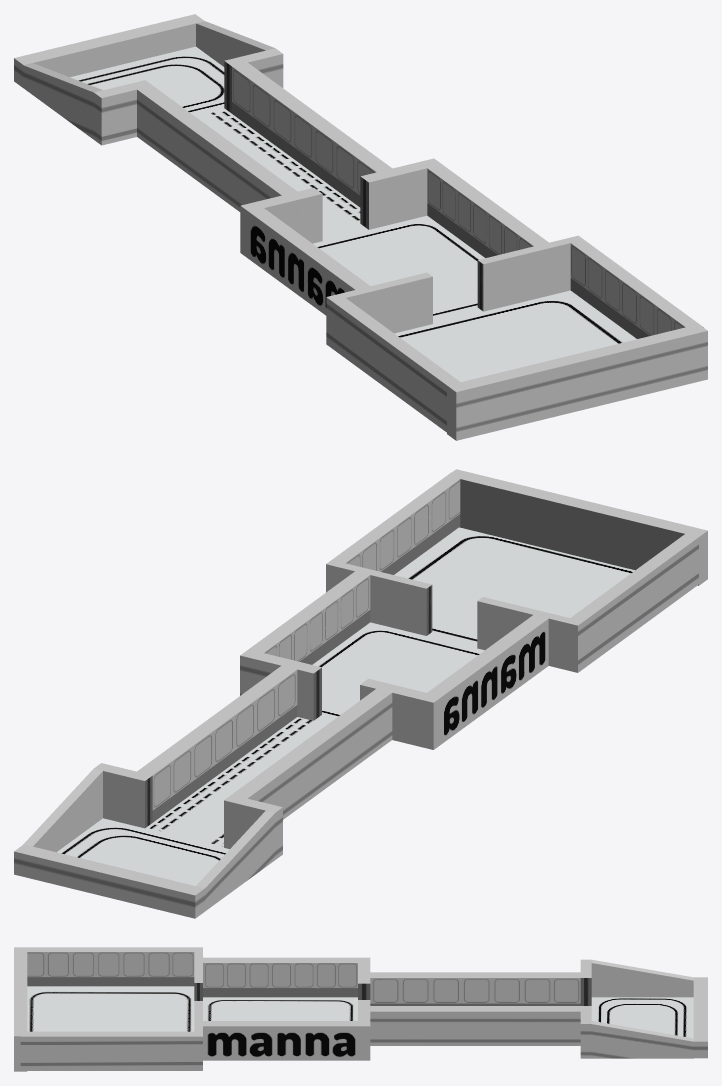
File: Interior Da Nave.fbx
The picture shows the model from 3 angles, top to bottom: view 1: azimuth 30°, elevation 25°; view 2: azimuth 150°, elevation 25°; view 3: azimuth 270°, elevation 25°; orthographic projection. The views are drawn at different scales.
Visible parts, largest first — view 1: polySurface149; view 2: polySurface149; view 3: polySurface149.
Part boxes in pixels (box(x1,y1,x2,y2)): polySurface149: box(14, 14, 707, 440); polySurface149: box(14, 469, 707, 918); polySurface149: box(14, 947, 707, 1071).
Size of the model in its own units: 7.86 by 1.45 by 25.79.
Materials: 2 (2 with a texture image).
